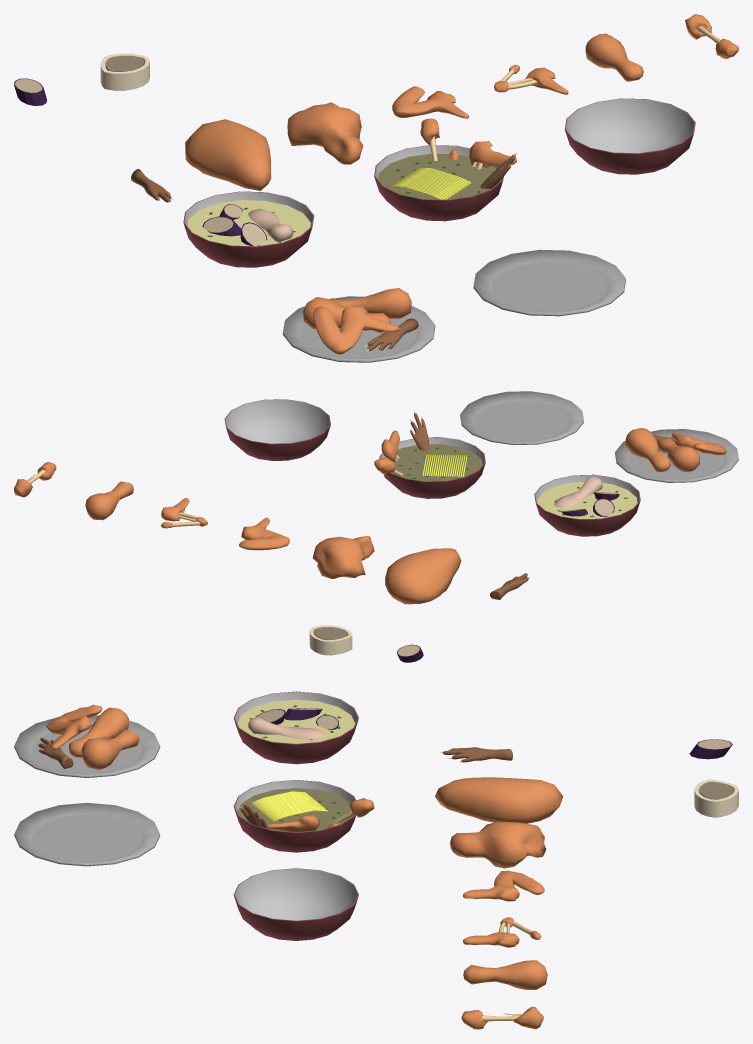
Rendered from Pagpag_assets.fbx.
The picture shows the model from 3 angles, top to bottom: view 1: azimuth 30°, elevation 25°; view 2: azimuth 150°, elevation 25°; view 3: azimuth 270°, elevation 25°; orthographic projection. The views are drawn at different scales.
Visible parts, largest first — view 1: Bowl_Noodles, Refried_chicken, Plate_Empty, Bowl_Empty, Sinigang, Breast_Whole, Breast_eaten, Large_Bone, Drumstick_whole, Wing_whole, Wing_eaten, Drumstick_eaten (+2 smaller); view 2: Bowl_Noodles, Refried_chicken, Plate_Empty, Sinigang, Bowl_Empty, Breast_Whole, Breast_eaten, Large_Bone, Wing_whole, Drumstick_whole, Wing_eaten, Drumstick_eaten; view 3: Refried_chicken, Bowl_Noodles, Plate_Empty, Bowl_Empty, Sinigang, Breast_Whole, Breast_eaten, Drumstick_whole, Large_Bone, Wing_whole, Drumstick_eaten, Wing_eaten (+2 smaller).
Part boxes in pixels (x1=…): Bowl_Noodles: x1=374, y1=118, x2=516, y2=221; Refried_chicken: x1=282, y1=288, x2=435, y2=362; Plate_Empty: x1=473, y1=249, x2=625, y2=316; Bowl_Empty: x1=565, y1=98, x2=695, y2=174; Sinigang: x1=183, y1=191, x2=314, y2=267; Breast_Whole: x1=185, y1=119, x2=271, y2=190; Breast_eaten: x1=287, y1=102, x2=363, y2=164; Large_Bone: x1=100, y1=53, x2=149, y2=90; Drumstick_whole: x1=585, y1=33, x2=643, y2=81; Wing_whole: x1=392, y1=86, x2=468, y2=118; Wing_eaten: x1=494, y1=64, x2=568, y2=94; Drumstick_eaten: x1=685, y1=14, x2=738, y2=58; Bowl_Noodles: x1=374, y1=410, x2=485, y2=498; Refried_chicken: x1=615, y1=428, x2=738, y2=482; Plate_Empty: x1=460, y1=391, x2=583, y2=445; Sinigang: x1=534, y1=474, x2=640, y2=536; Bowl_Empty: x1=224, y1=399, x2=330, y2=460; Breast_Whole: x1=385, y1=548, x2=461, y2=604; Breast_eaten: x1=312, y1=535, x2=374, y2=578; Large_Bone: x1=309, y1=625, x2=352, y2=655; Wing_whole: x1=239, y1=517, x2=289, y2=550; Drumstick_whole: x1=85, y1=481, x2=133, y2=520; Wing_eaten: x1=161, y1=498, x2=207, y2=528; Drumstick_eaten: x1=14, y1=462, x2=56, y2=497; Refried_chicken: x1=14, y1=704, x2=160, y2=777; Bowl_Noodles: x1=233, y1=780, x2=374, y2=852; Plate_Empty: x1=14, y1=803, x2=160, y2=866; Bowl_Empty: x1=233, y1=868, x2=358, y2=940; Sinigang: x1=233, y1=691, x2=358, y2=764; Breast_Whole: x1=435, y1=777, x2=563, y2=823; Breast_eaten: x1=450, y1=821, x2=546, y2=868; Drumstick_whole: x1=463, y1=960, x2=547, y2=989; Large_Bone: x1=694, y1=779, x2=738, y2=817; Wing_whole: x1=463, y1=870, x2=544, y2=901; Drumstick_eaten: x1=461, y1=1006, x2=543, y2=1029; Wing_eaten: x1=463, y1=917, x2=541, y2=947.
Bounding box in the file's own units: 339560 × 41227 × 346632.
